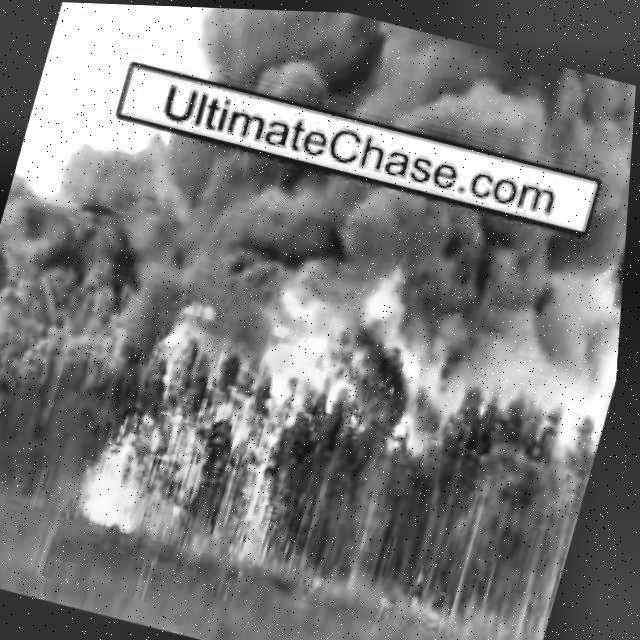Fire: (76, 239, 342, 564), (333, 237, 496, 453)
Smoke: (51, 103, 635, 330), (177, 5, 640, 190), (457, 296, 625, 443)
